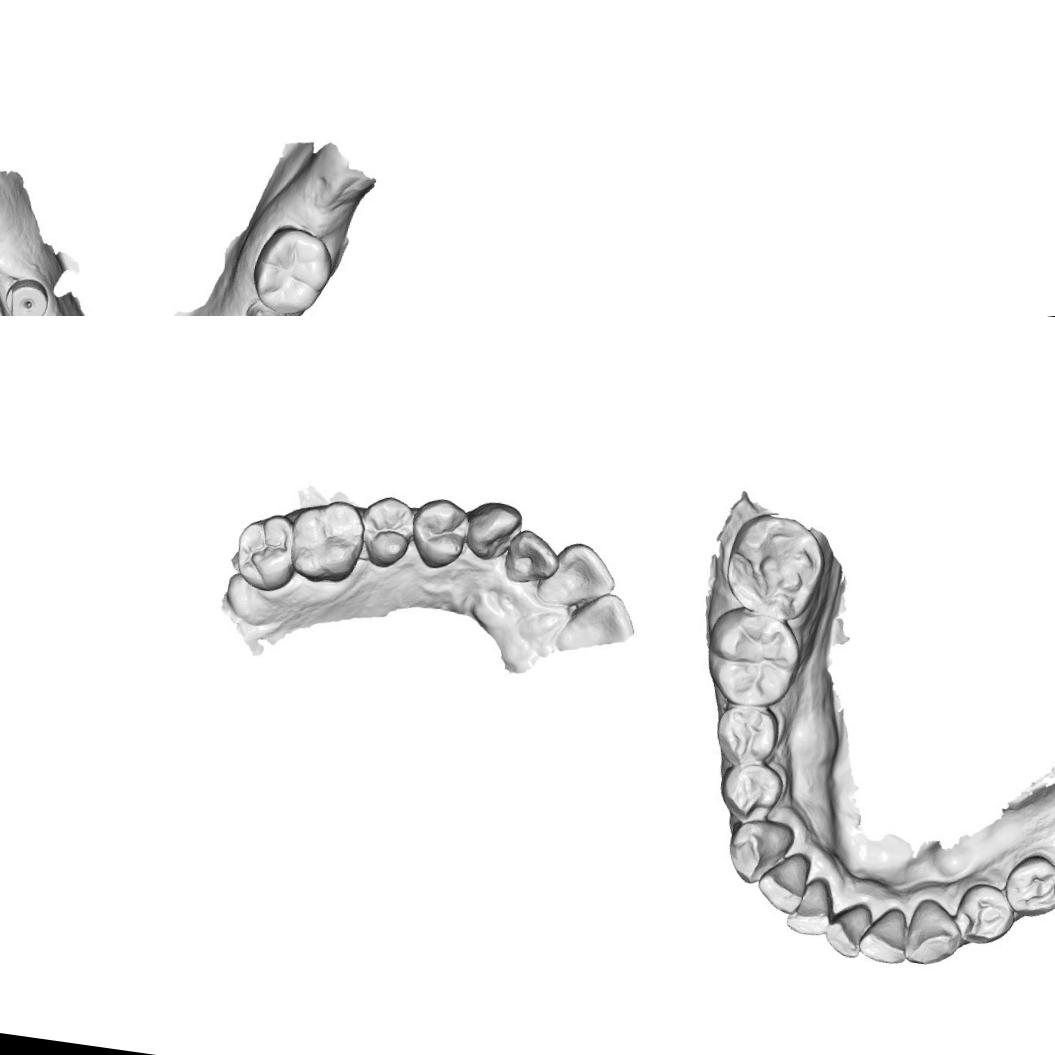canine: (902, 894, 966, 966), (726, 816, 790, 886), (460, 498, 522, 566)
crown: (236, 299, 293, 316)
implant: (0, 275, 50, 316)
incisor: (550, 584, 639, 661), (535, 536, 620, 616), (500, 526, 564, 589), (756, 848, 815, 915), (860, 902, 918, 968), (786, 871, 842, 939), (824, 898, 877, 960)
molar: (720, 506, 826, 624), (704, 605, 802, 708), (248, 220, 338, 316), (288, 495, 370, 588), (230, 508, 304, 596)
premolar: (406, 493, 474, 574), (712, 702, 780, 773), (357, 492, 417, 572), (719, 758, 787, 826), (951, 876, 1016, 947), (1000, 847, 1055, 926)
